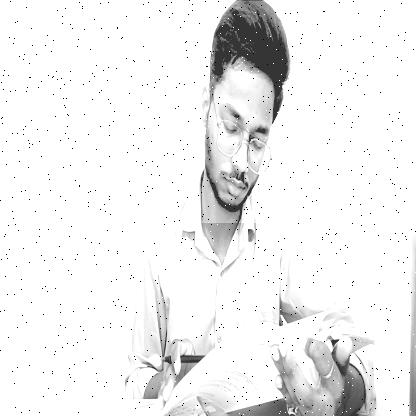Distracted: (200, 1, 292, 223)
